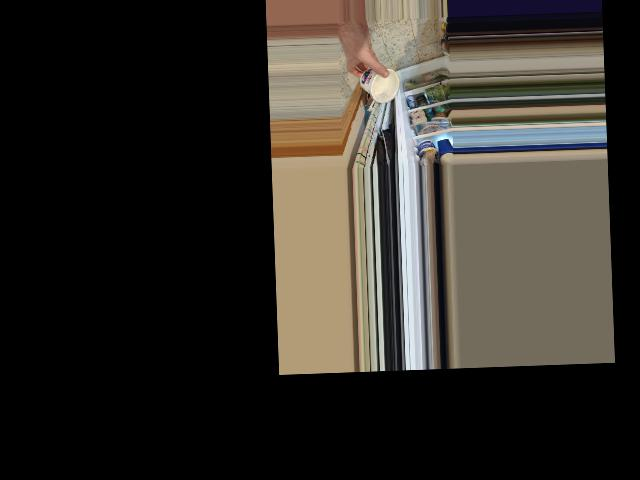cotage: (357, 65, 398, 103)
